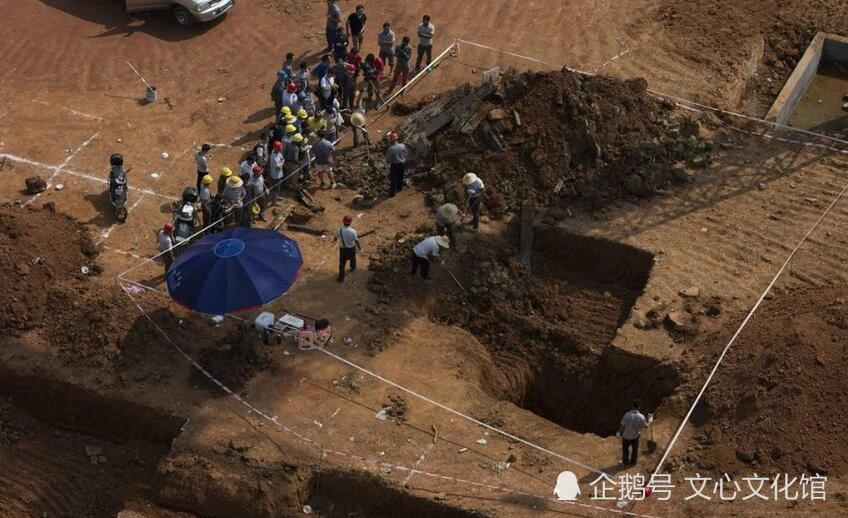blue: (274, 69, 285, 81)
none: (630, 397, 642, 411), (284, 51, 296, 63), (400, 35, 411, 47), (420, 14, 431, 25), (200, 143, 210, 155), (326, 67, 336, 78), (355, 4, 365, 15), (321, 53, 331, 64), (382, 21, 391, 32)
red: (163, 221, 175, 235), (252, 164, 264, 178), (270, 140, 282, 154), (387, 131, 399, 145), (342, 213, 353, 227), (286, 83, 296, 94)
yellow: (218, 166, 232, 180), (283, 123, 296, 137), (201, 174, 213, 188), (290, 133, 302, 146), (279, 105, 291, 117), (296, 109, 307, 122)
